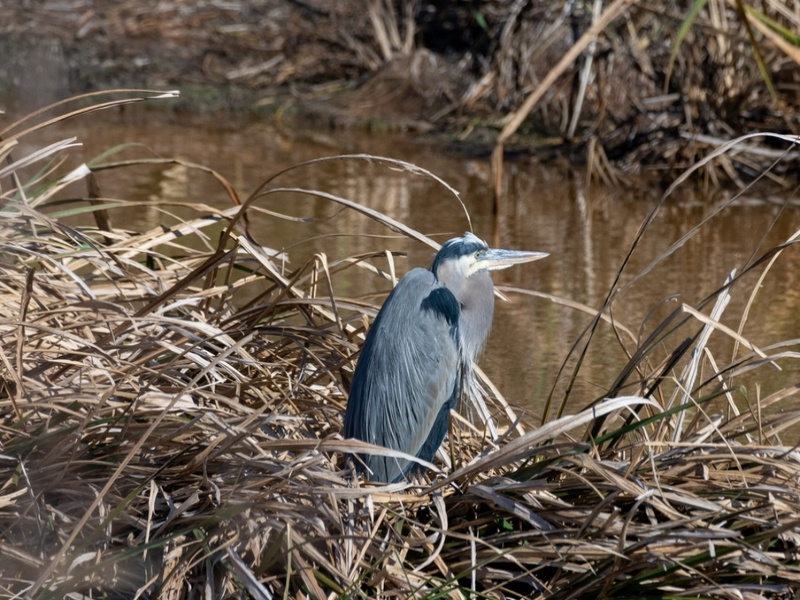heron: (340, 228, 552, 492)
